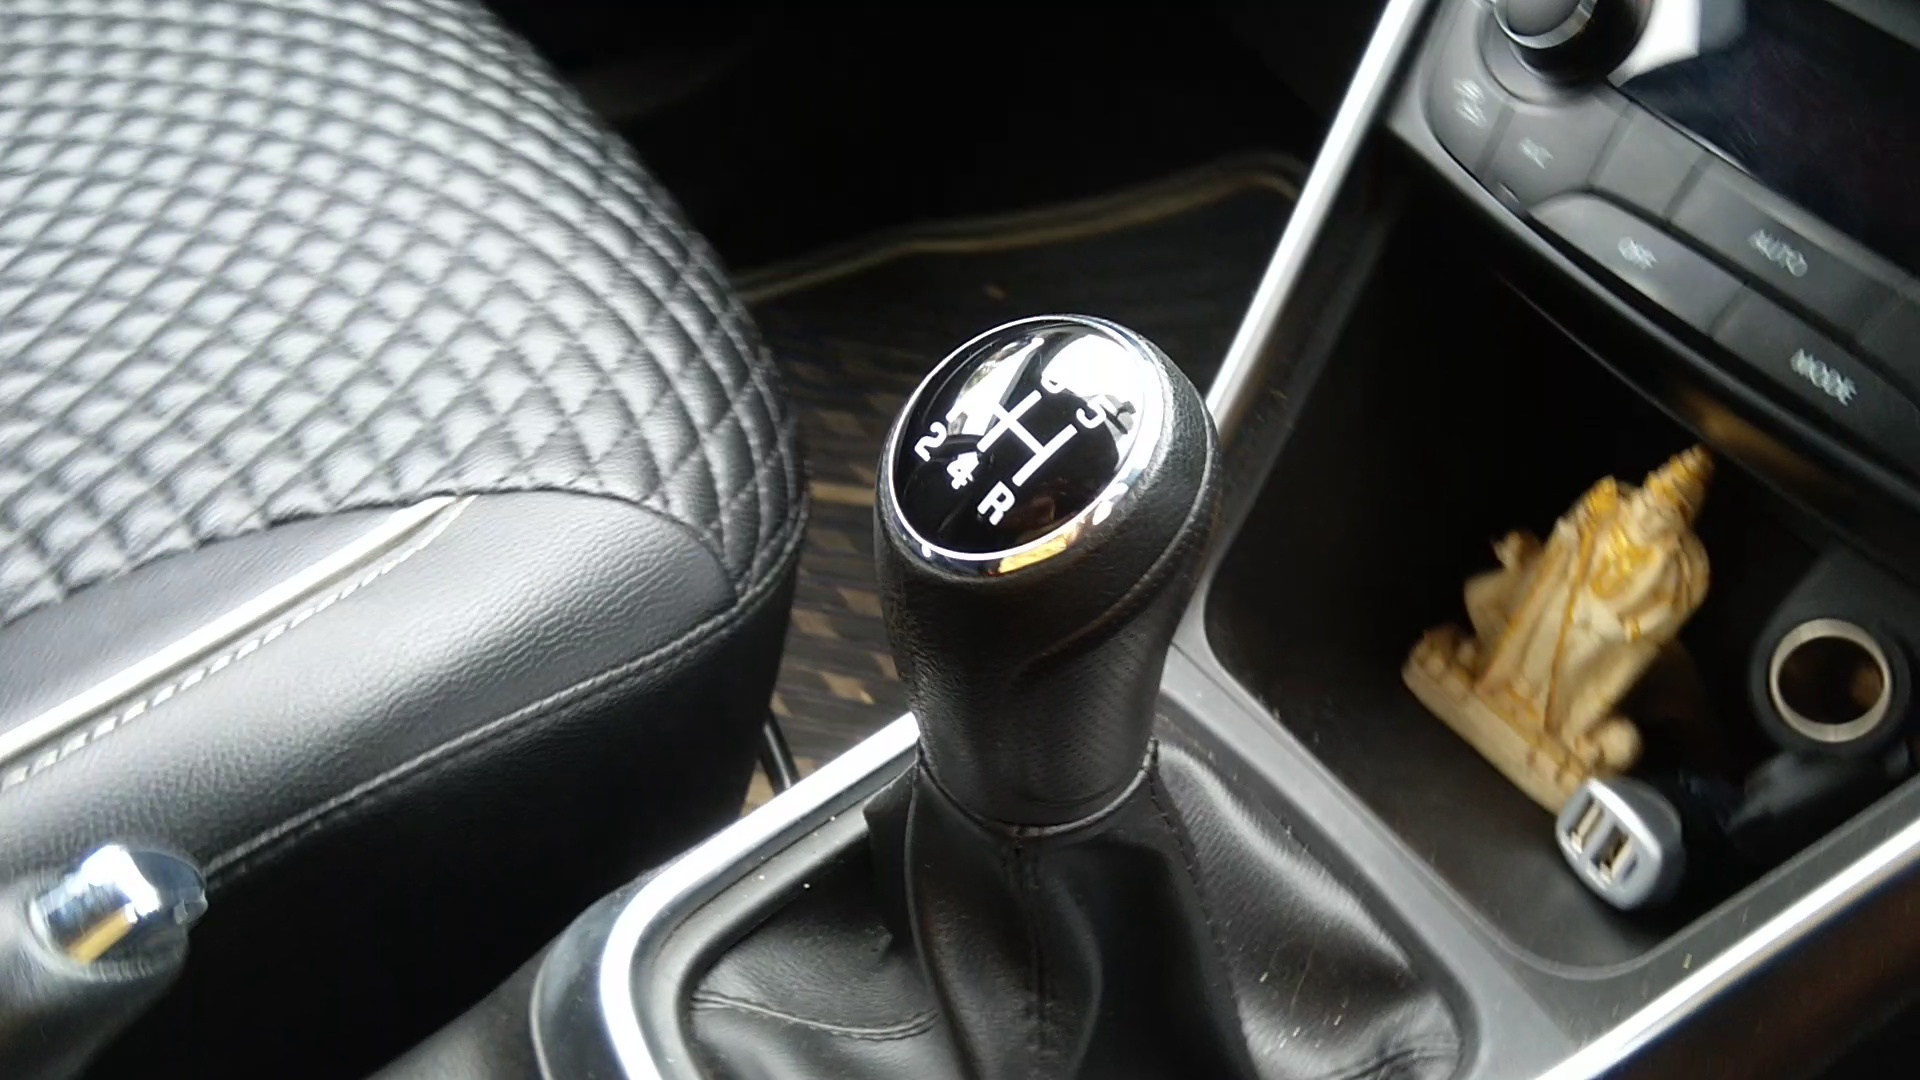manual_gear: (866, 301, 1259, 880)
